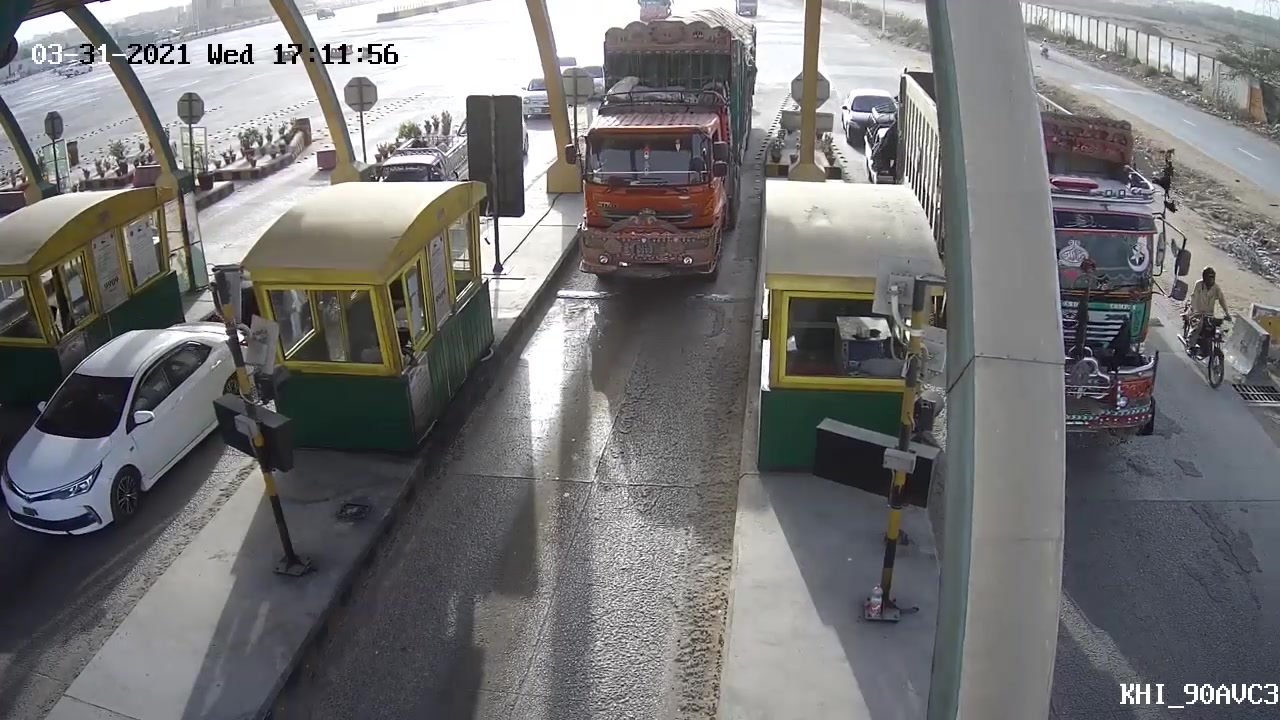F6: (566, 16, 742, 309)
